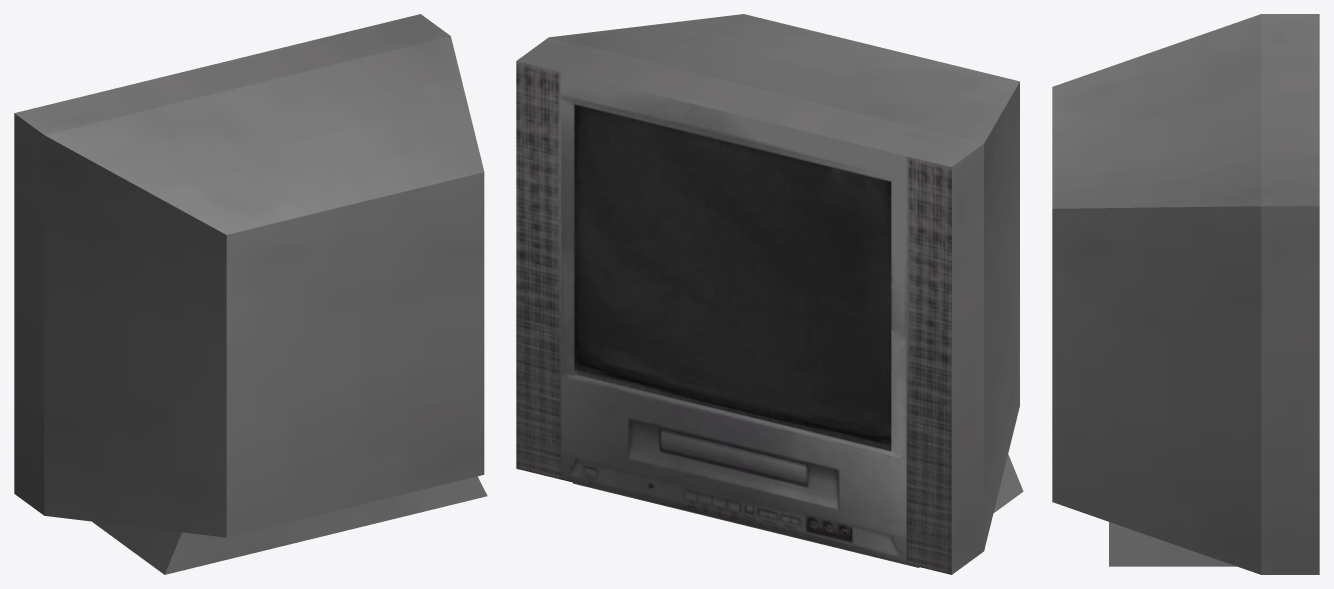
3 views of the same model, side by side, from view 1: azimuth 30°, elevation 25°; view 2: azimuth 150°, elevation 25°; view 3: azimuth 270°, elevation 25° (orthographic). The views are drawn at different scales.
Visible parts, largest first — view 1: TV; view 2: TV; view 3: TV.
Part boxes in pixels (x1,y1,x2,y2): TV: [14, 14, 487, 574]; TV: [516, 14, 1023, 574]; TV: [1052, 14, 1319, 574].
Size of the model in its own units: 40.57 by 37.43 by 23.85.
